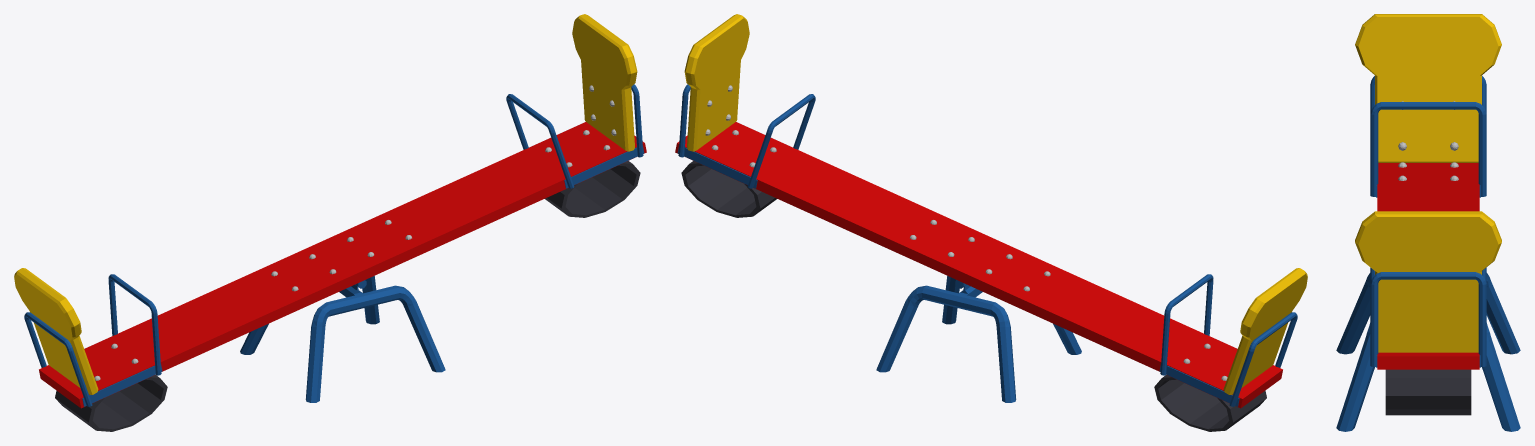
Rendered from dcf75e8b-4e9b-4a58-9c5e-861af8da6207.glb.
3 views of the same model, side by side, from view 1: azimuth 30°, elevation 25°; view 2: azimuth 150°, elevation 25°; view 3: azimuth 270°, elevation 25° (orthographic). The views are drawn at different scales.
Visible parts, largest first — view 1: Node; view 2: Node; view 3: Node.
Boxes of the visible parts, x1,y1,x2,y2 form: Node: (14, 14, 646, 431); Node: (675, 14, 1307, 431); Node: (1336, 14, 1520, 431).
Bounding box in the file's own units: 8.4 × 3.64 × 1.8.
